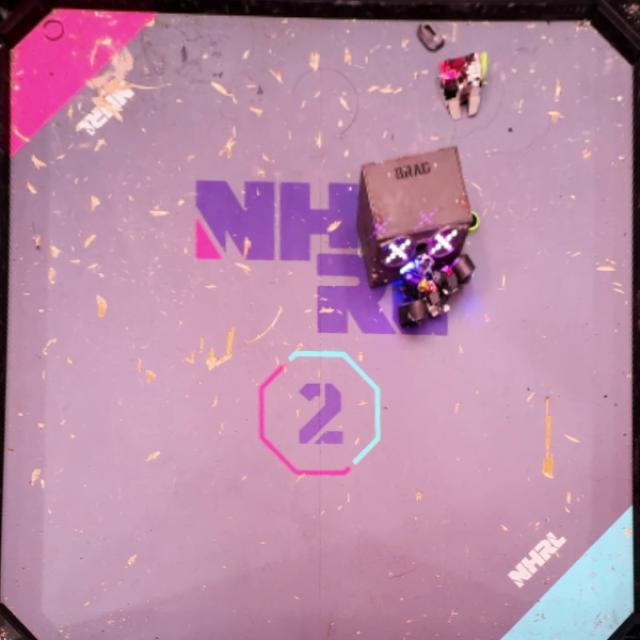housebot: (357, 145, 472, 288)
robot: (398, 253, 475, 329), (439, 50, 488, 120)
